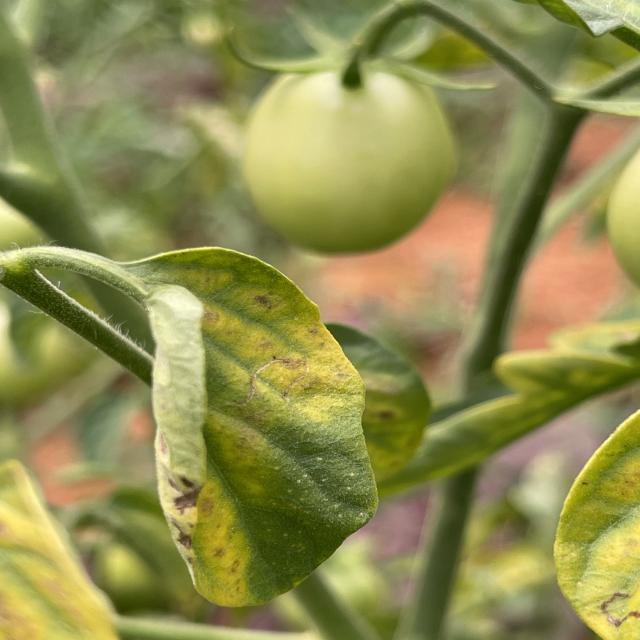tomato_early blight: (106, 241, 372, 608), (392, 322, 640, 495), (0, 457, 116, 640), (553, 410, 640, 640)
